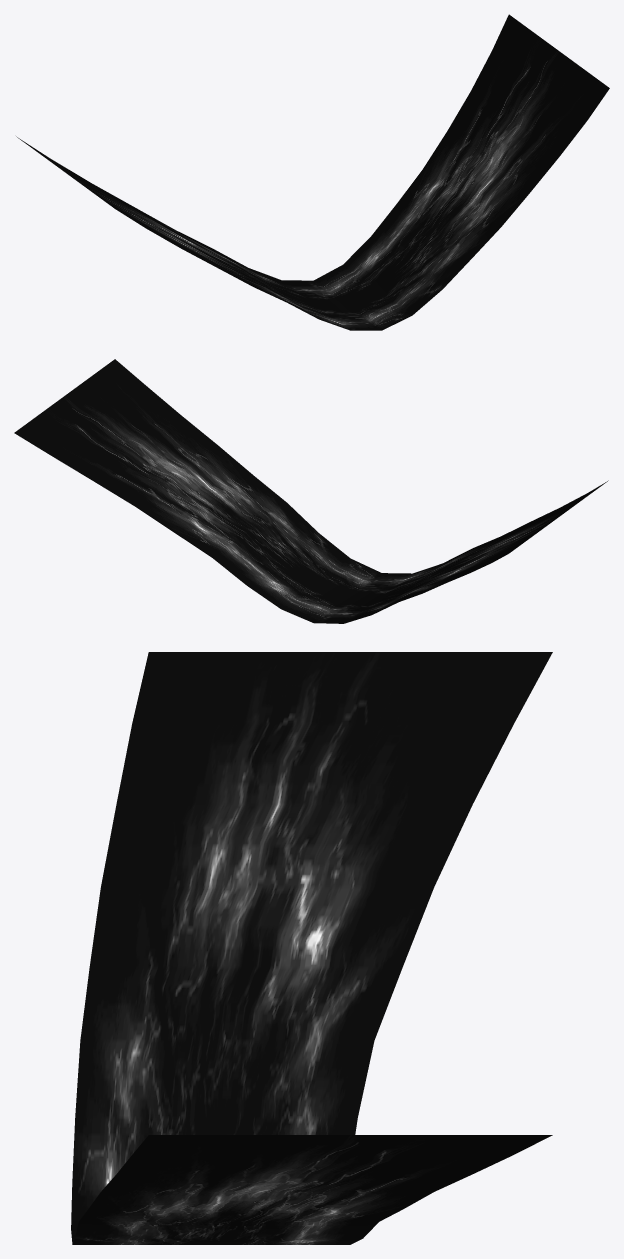
The model's file is 0360_ladiousi_smoke01.glb.
3 renders of one model, top to bottom at view 1: azimuth 30°, elevation 25°; view 2: azimuth 150°, elevation 25°; view 3: azimuth 270°, elevation 25°, orthographic. The views are drawn at different scales.
Size of the model in its own units: 2.2 by 0.713 by 0.9275.
Materials: 1 (1 with a texture image).
